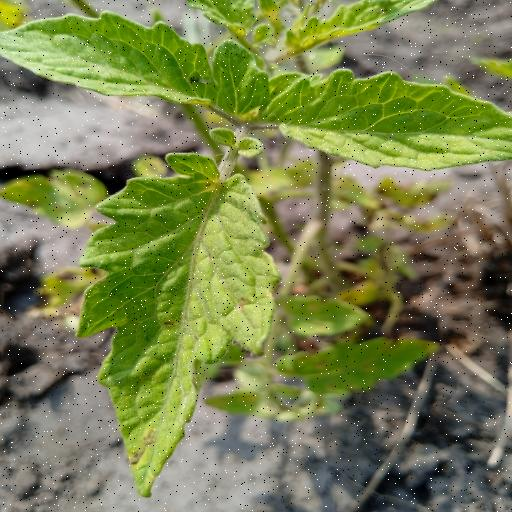Tomato_Brown_Spots: (68, 146, 283, 496)
